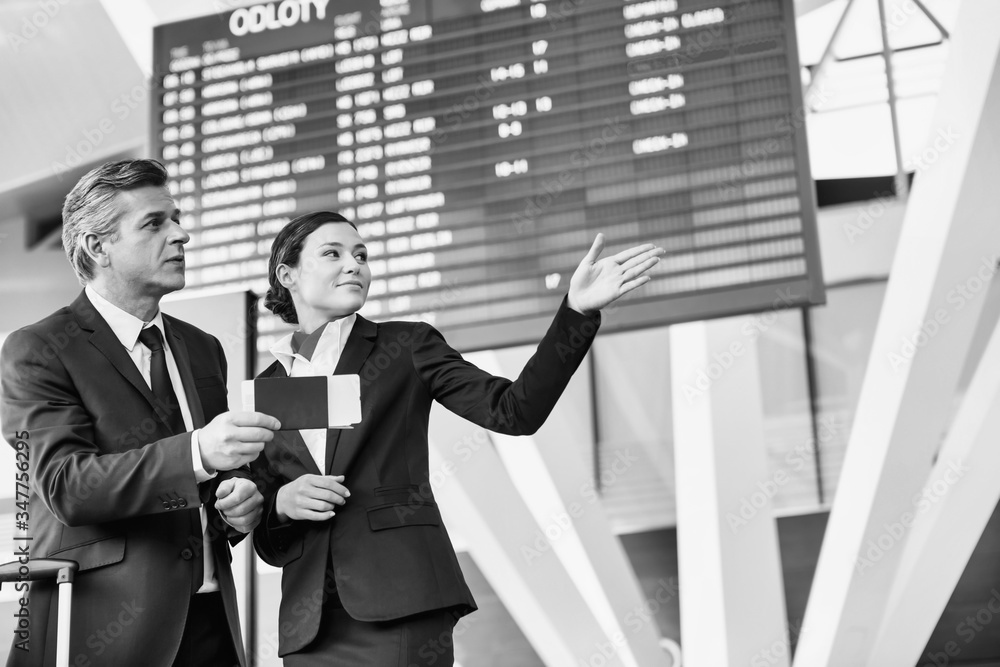pointing_gesture: (563, 230, 678, 310)
